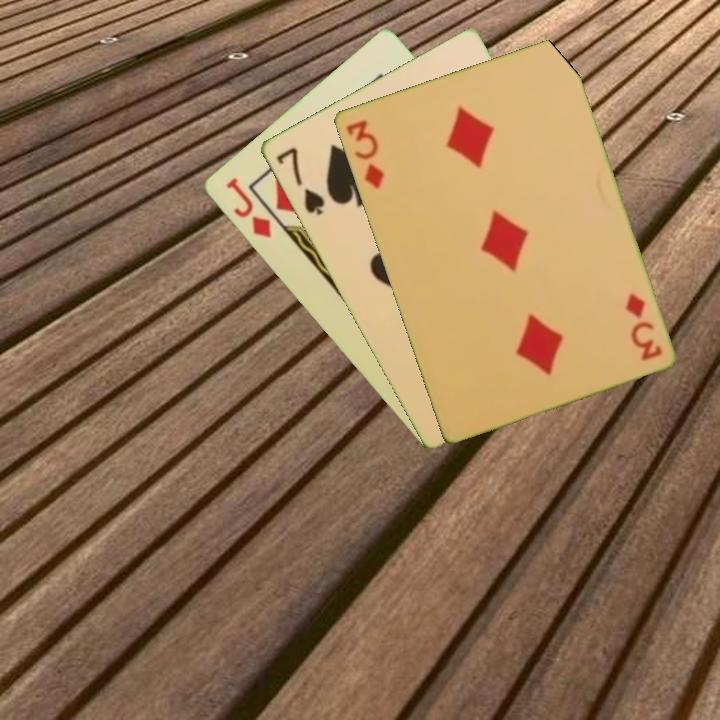3d: (342, 116, 387, 192), (621, 289, 665, 364)
7s: (272, 143, 327, 219)
Jd: (221, 174, 274, 241)
